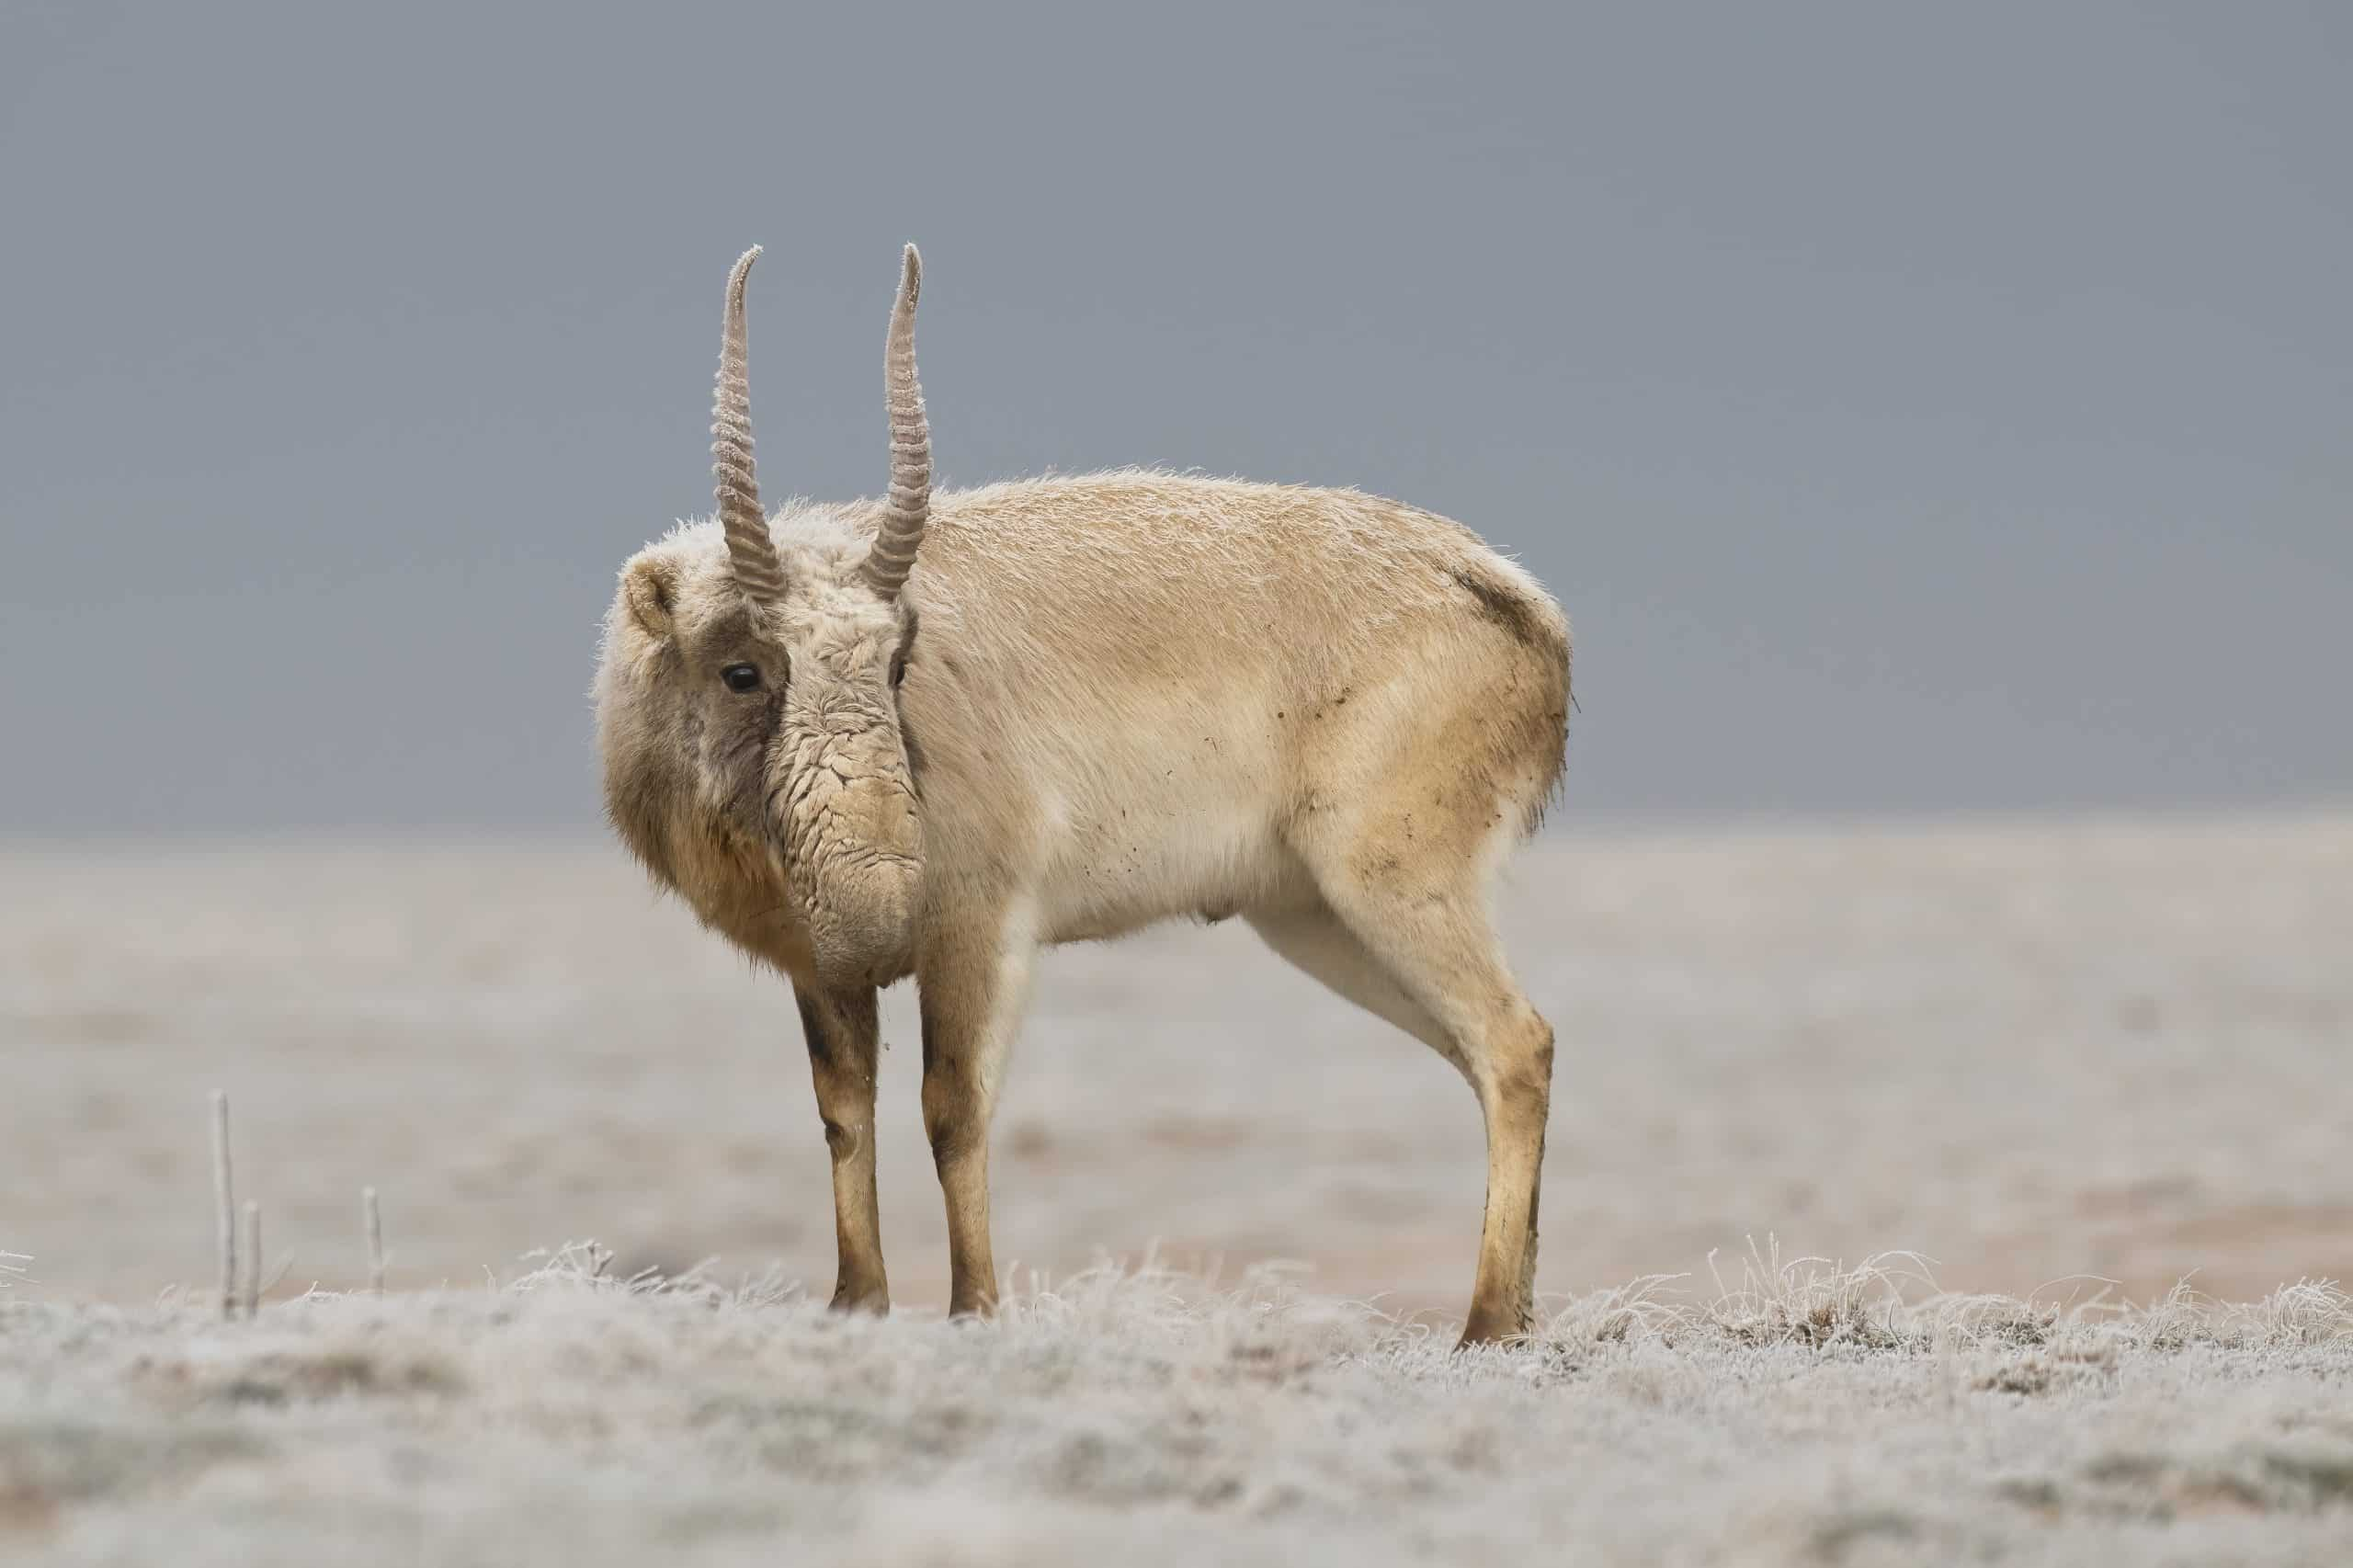saiga: (590, 229, 1574, 1344)
